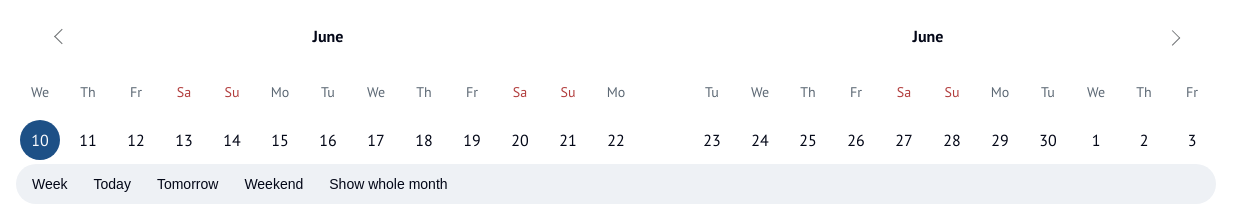
Test: CalendarSlider › navigates the visible window forward 7 days per arrow click
Click the button named "Next week": (1172, 36) [1152,16,1192,56]
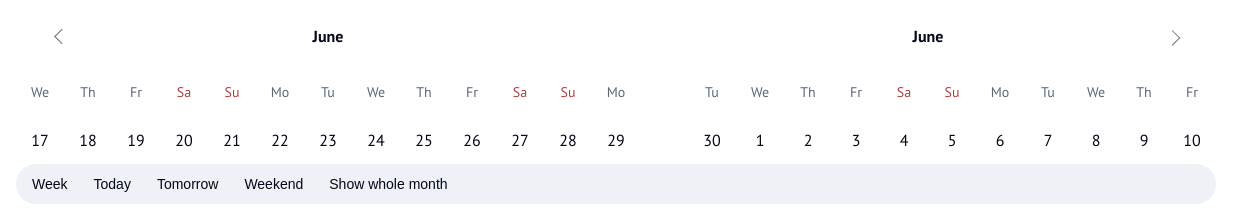
Click the button named "Next week": (1172, 36) [1152,16,1192,56]
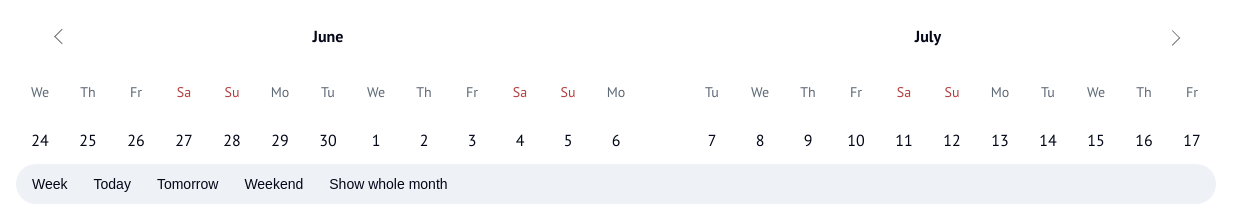
Check: the text "July" is shown, box [915,26,941,46]
